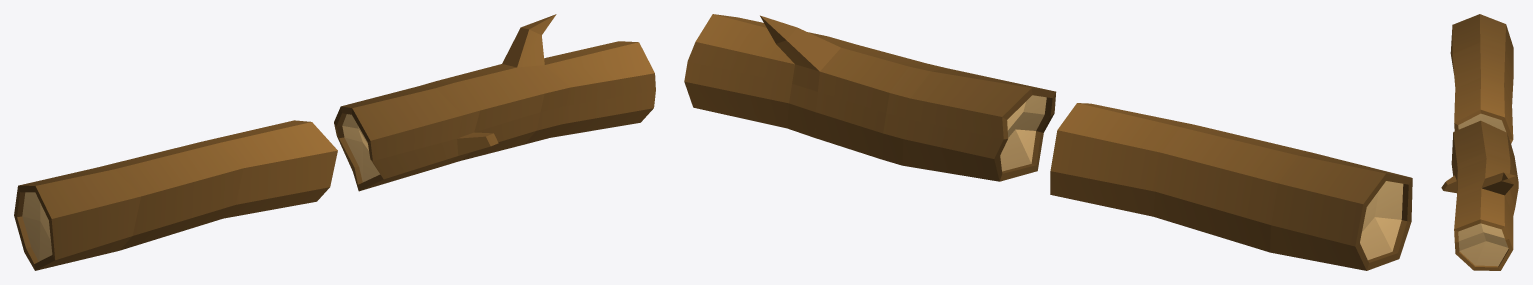
The model's file is Logs.fbx.
The picture shows the model from 3 angles, left to right: view 1: azimuth 30°, elevation 25°; view 2: azimuth 150°, elevation 25°; view 3: azimuth 270°, elevation 25°; orthographic projection. The views are drawn at different scales.
Parts seen in each view (by area): view 1: Log_big_knotty, Log_big_regular; view 2: Log_big_knotty, Log_big_regular; view 3: Log_big_knotty, Log_big_regular.
Part boxes in pixels (left/top/right/bottom): Log_big_knotty: left=334, top=14, right=655, bottom=191; Log_big_regular: left=14, top=120, right=337, bottom=270; Log_big_knotty: left=684, top=14, right=1056, bottom=181; Log_big_regular: left=1050, top=103, right=1412, bottom=270; Log_big_knotty: left=1441, top=120, right=1518, bottom=270; Log_big_regular: left=1450, top=14, right=1513, bottom=143.
Size of the model in its own units: 1742 by 287 by 277.
1 material, 1 textured.
